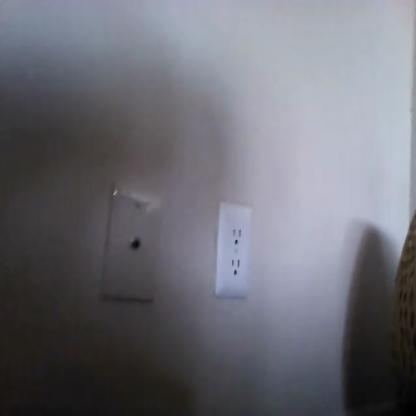OUTLET: (217, 201, 252, 297)
